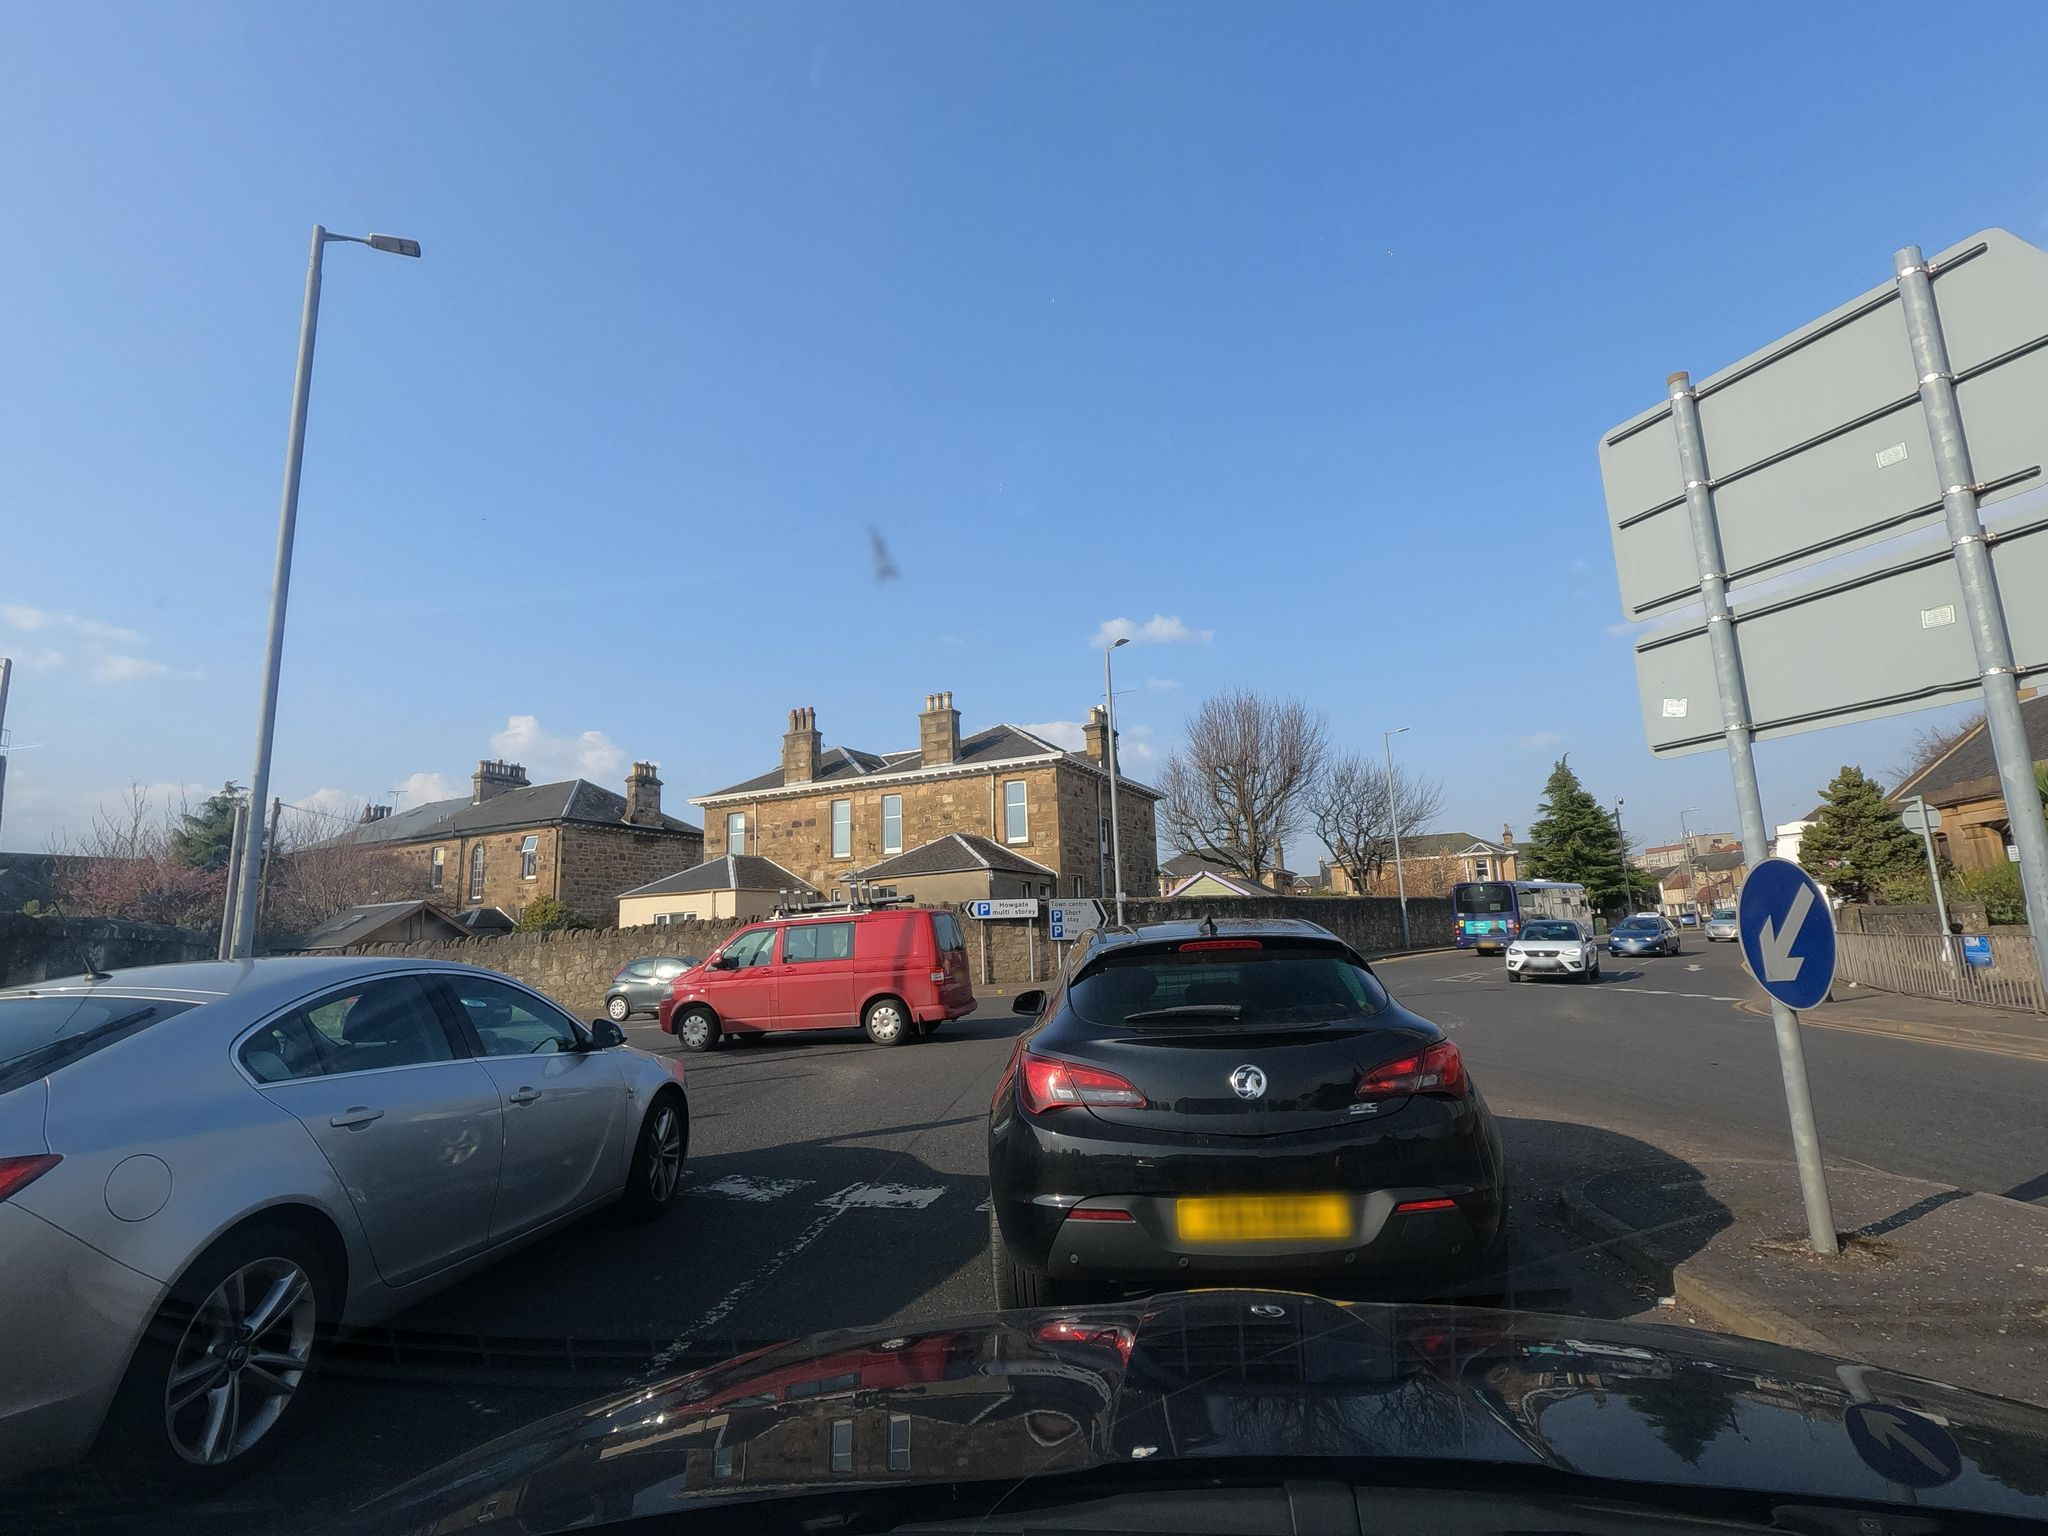bus: (1450, 878, 1596, 960)
car: (0, 950, 693, 1517), (980, 913, 1509, 1312), (658, 904, 979, 1054), (1505, 918, 1600, 984), (603, 957, 697, 1020), (1605, 912, 1680, 957), (1705, 910, 1738, 942)
